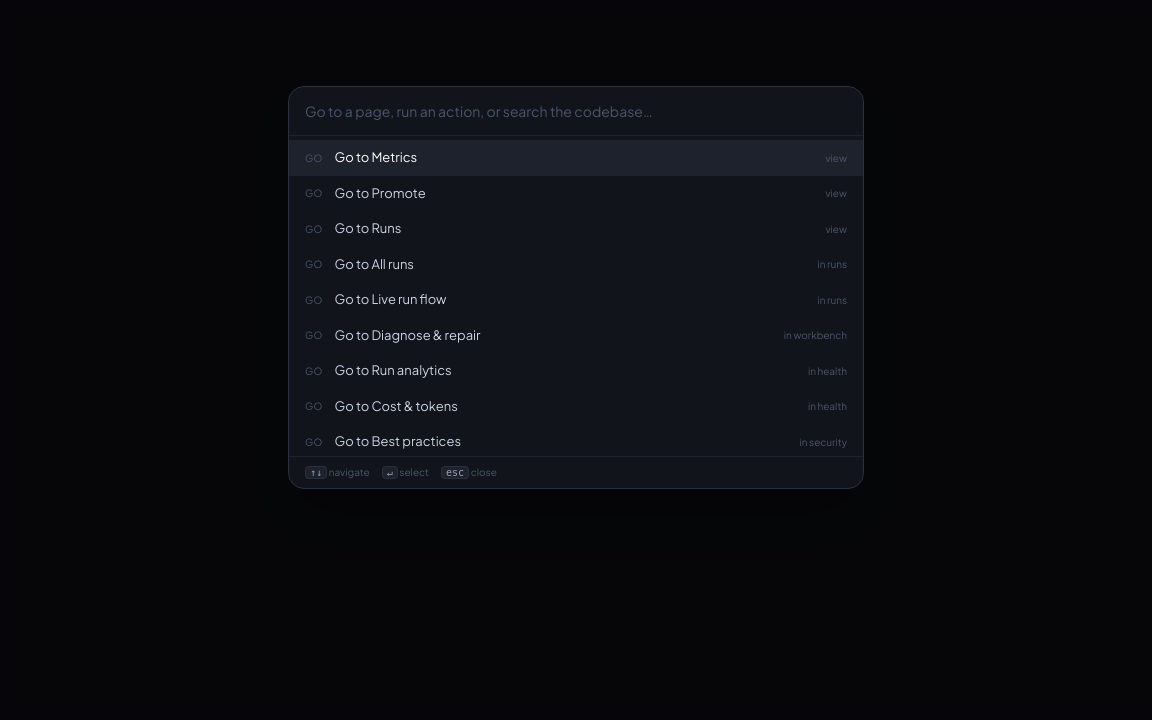
CommandPalette finds pages by the name people actually type › still ranks by the visible label rather than the hidden keyword
Type "runs" into the field with placeholder "Go to a page, run an action, or search the codebase…" at point(576, 112), box [289,87,863,136]
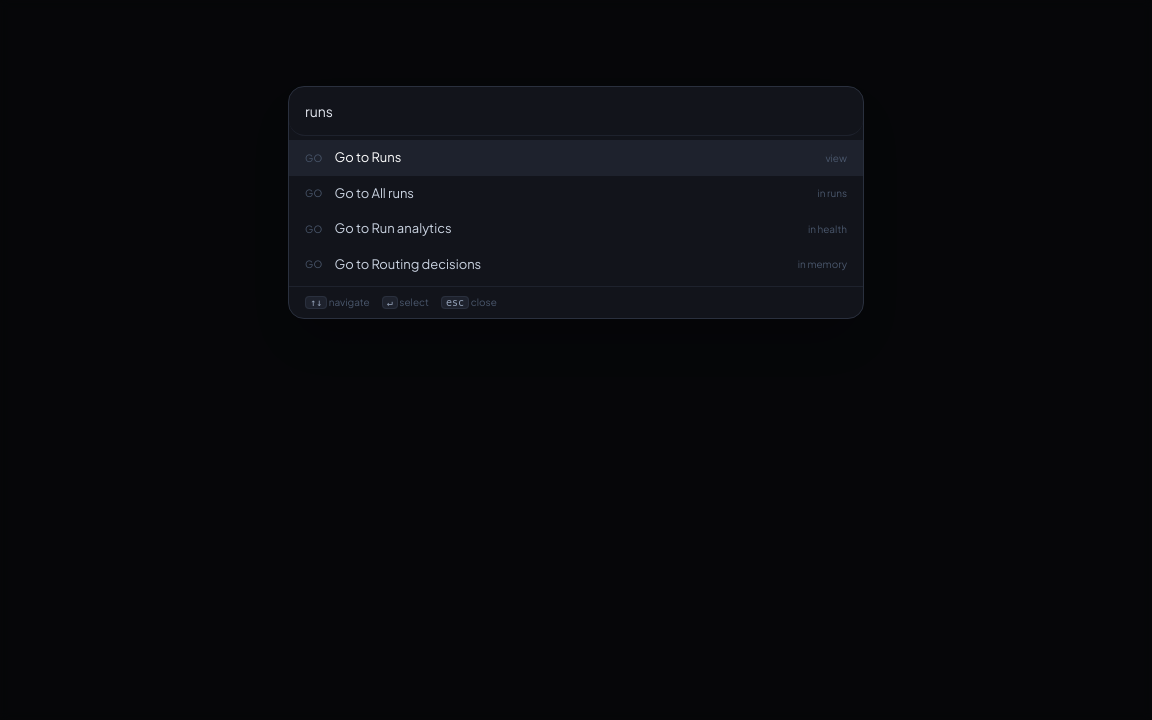
Now the button "go Go to Runs view" is shown, box [289,140,863,176]
